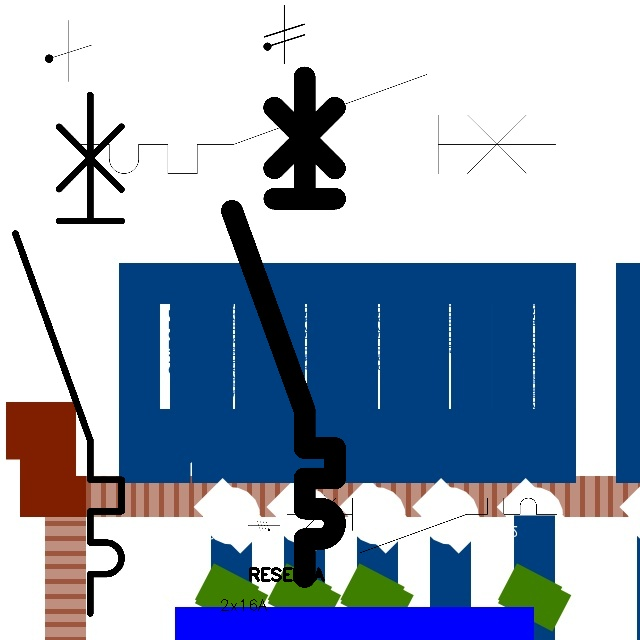interruptor_termomagnetico: (2, 81, 135, 627), (219, 64, 348, 590), (60, 62, 568, 186), (280, 491, 563, 560)
